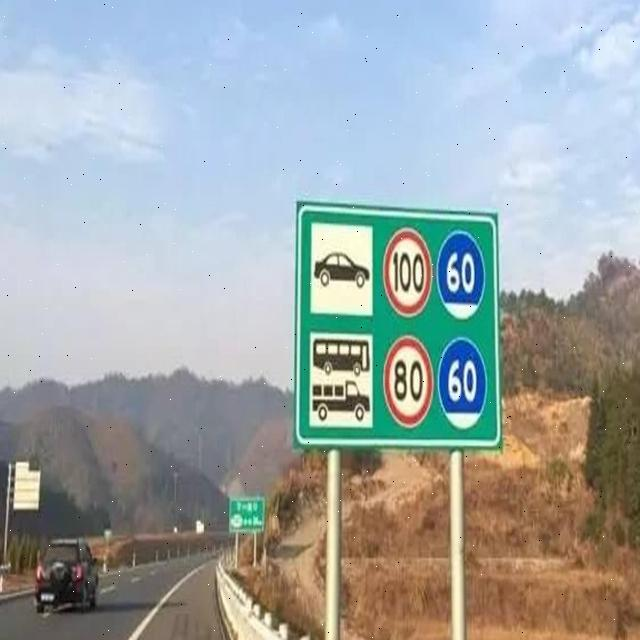speed limit 100: (382, 226, 433, 318)
speed limit 60: (438, 336, 488, 429), (436, 230, 485, 322)
speed limit 80: (383, 333, 433, 431)
